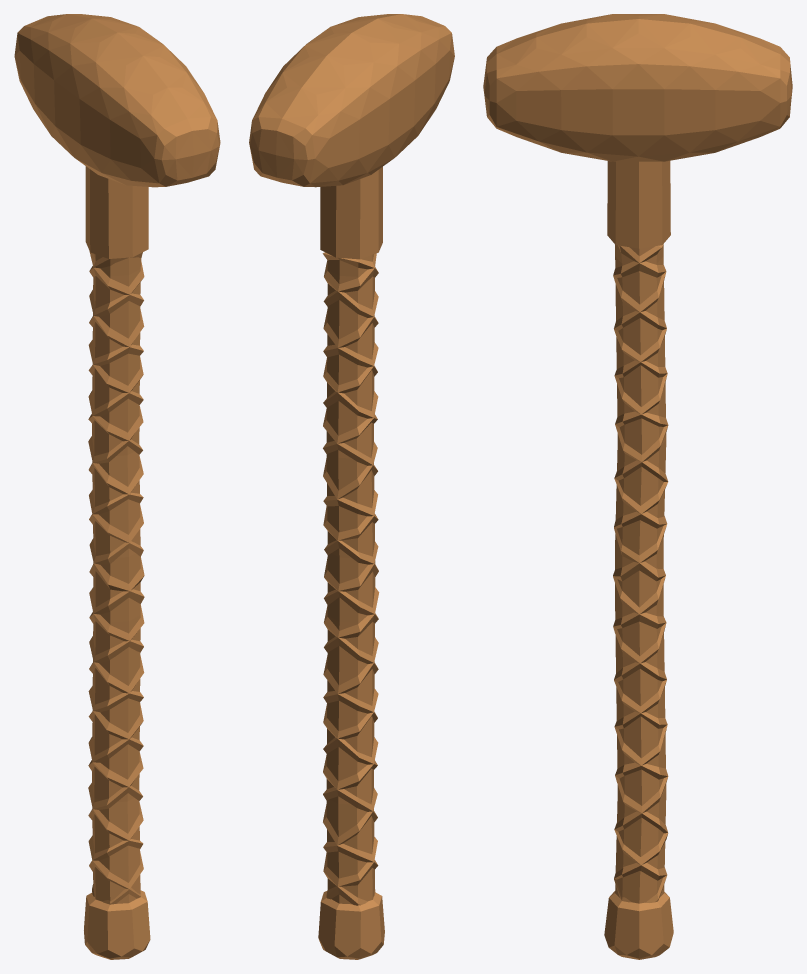
File: Copper_Hammer_Flat.fbx
3 renders of one model, left to right at view 1: azimuth 30°, elevation 25°; view 2: azimuth 150°, elevation 25°; view 3: azimuth 270°, elevation 25°, orthographic.
Visible parts, largest first — view 1: Hammer_Copper_Flat; view 2: Hammer_Copper_Flat; view 3: Hammer_Copper_Flat.
Boxes of the visible parts, bbox=[...] form: Hammer_Copper_Flat: bbox=[14, 14, 220, 959]; Hammer_Copper_Flat: bbox=[249, 14, 454, 959]; Hammer_Copper_Flat: bbox=[483, 14, 792, 959].
Size of the model in its own units: 0.4947 by 4.29 by 1.29.
